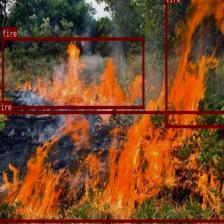fire: (0, 110, 224, 222), (2, 38, 144, 108), (165, 0, 224, 127)
